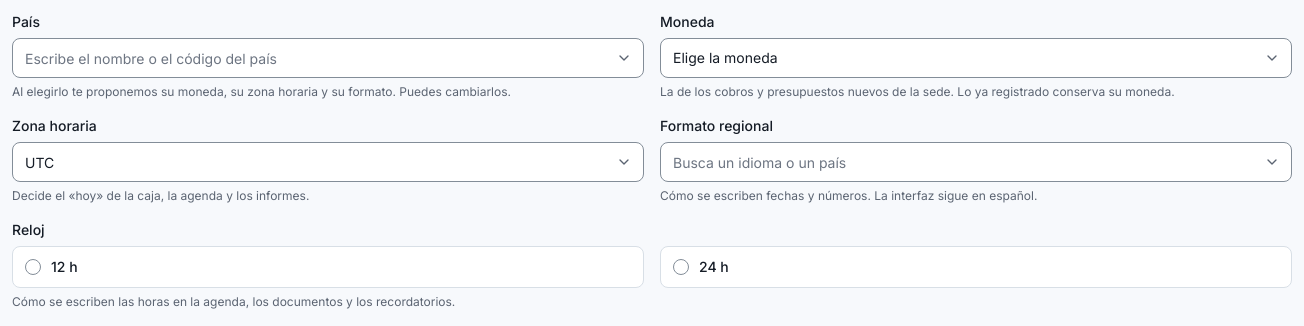
Test: RegionalSettingsFields › a typed zone that matches nothing is never kept
Replace the text in the dropdown labelled "Zona horaria" with "Marte/Olimpo" at (328, 162), box [12,142,644,182]
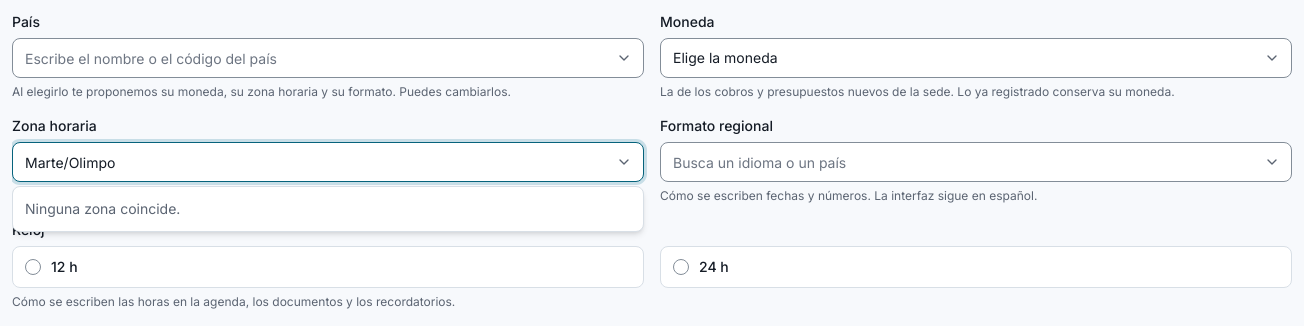
Expected: the option "Ninguna zona coincide." is shown, [25,200,180,217]
Press Tab
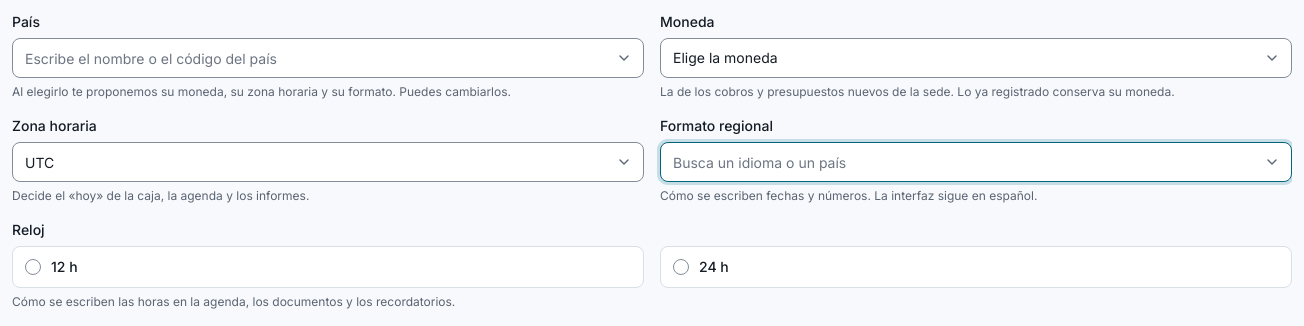
Expected: the dropdown labelled "Zona horaria" holds "UTC", [12,142,644,182]
